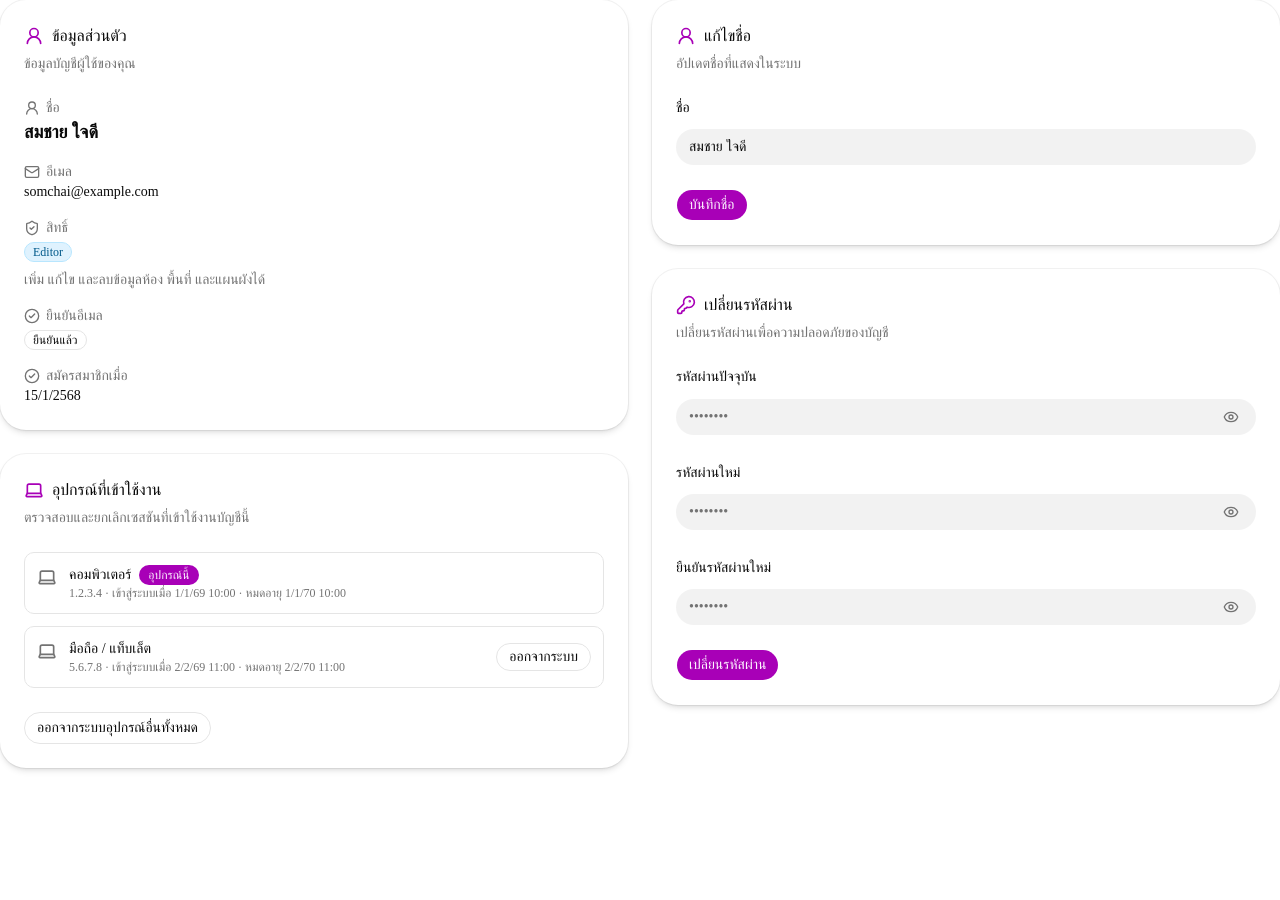
Test: ProfileClient - change password › validates matching confirm password
Type "OldPass12345!" into the password field labelled "รหัสผ่านปัจจุบัน". click: (966, 416)
box: left=676, top=398, right=1256, bottom=434
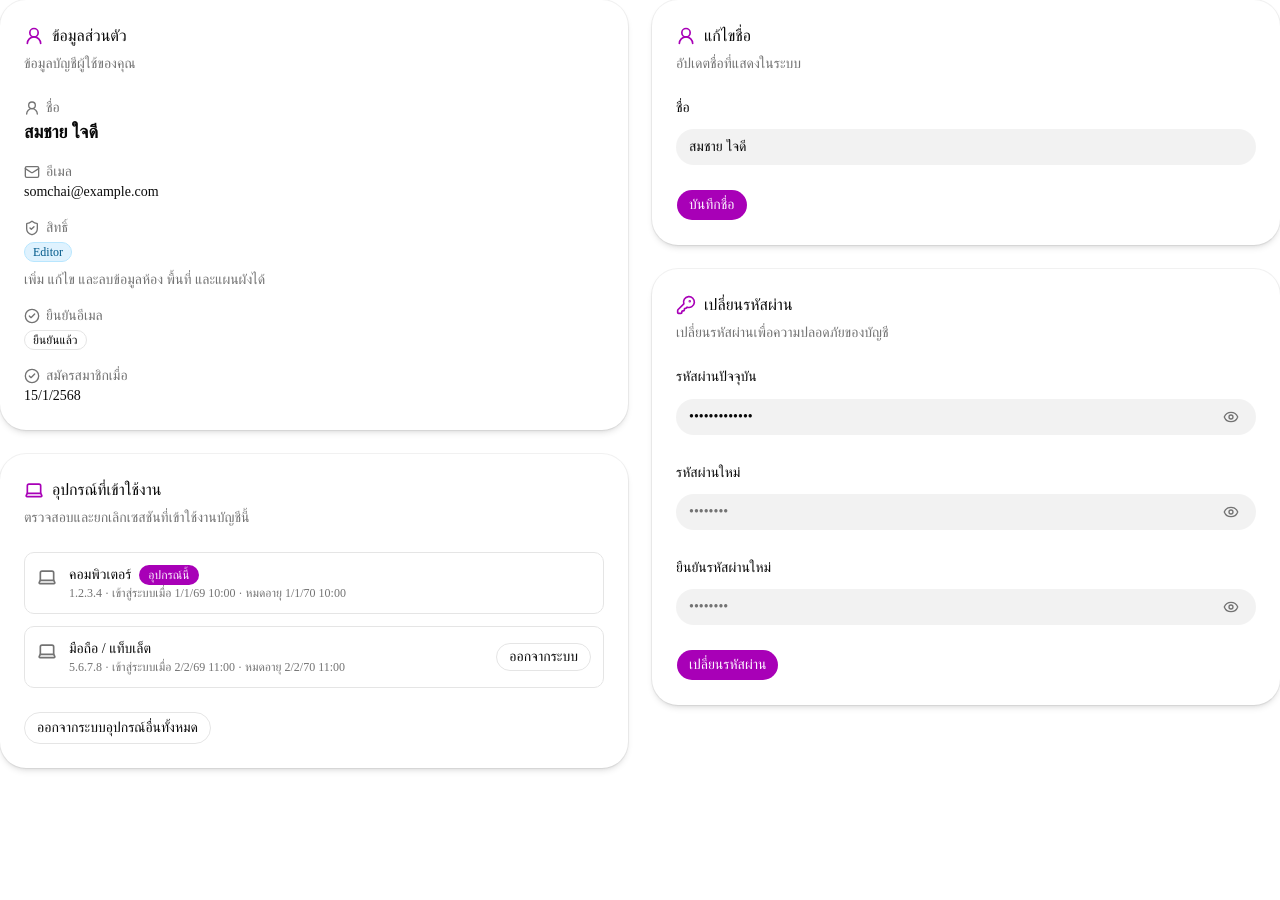
Type "NewPass12345!" into the password field labelled "รหัสผ่านใหม่". click: (966, 512)
box: left=676, top=494, right=1256, bottom=530
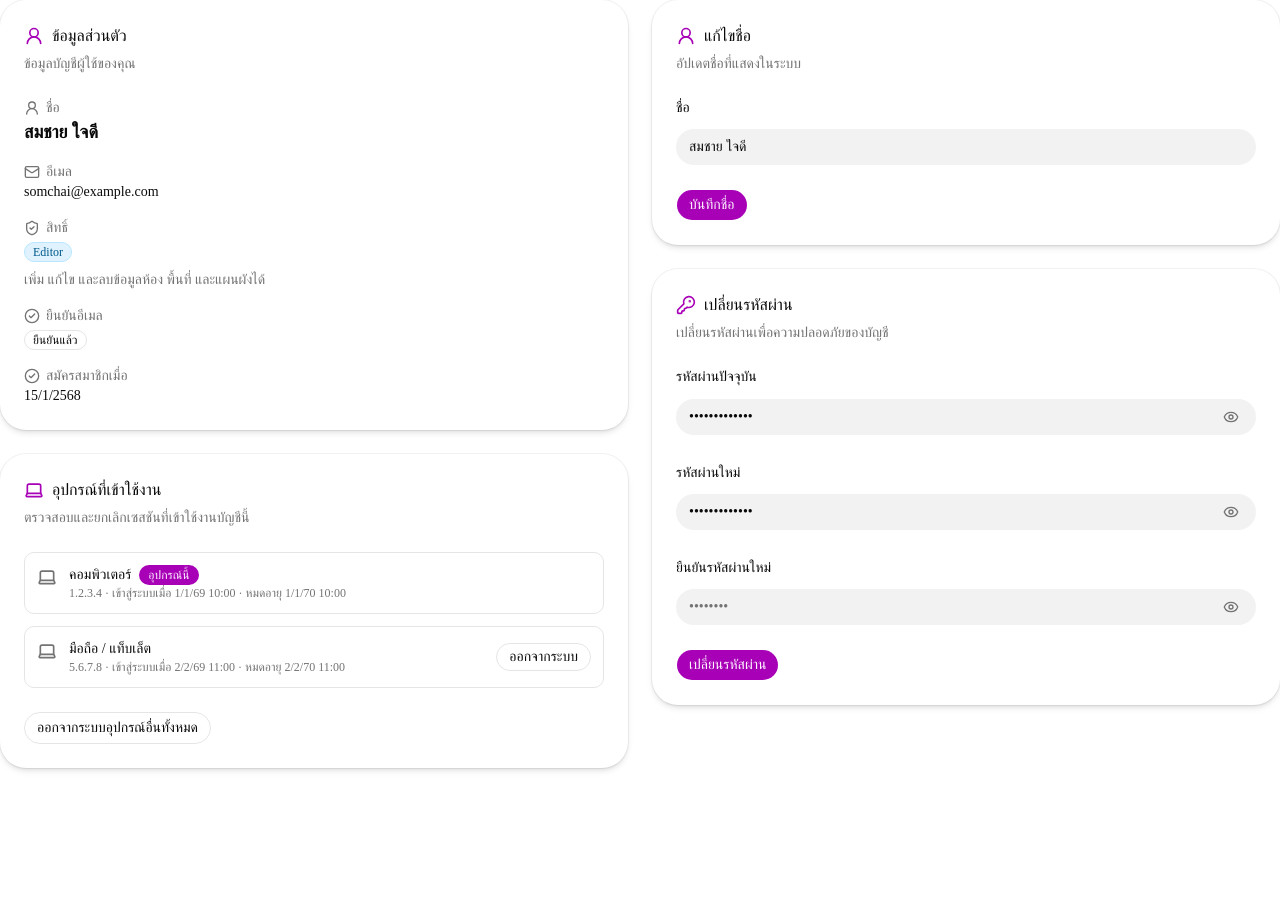
Type "DifferentPass!" into the password field labelled "ยืนยันรหัสผ่านใหม่". click: (966, 607)
box: left=676, top=589, right=1256, bottom=625
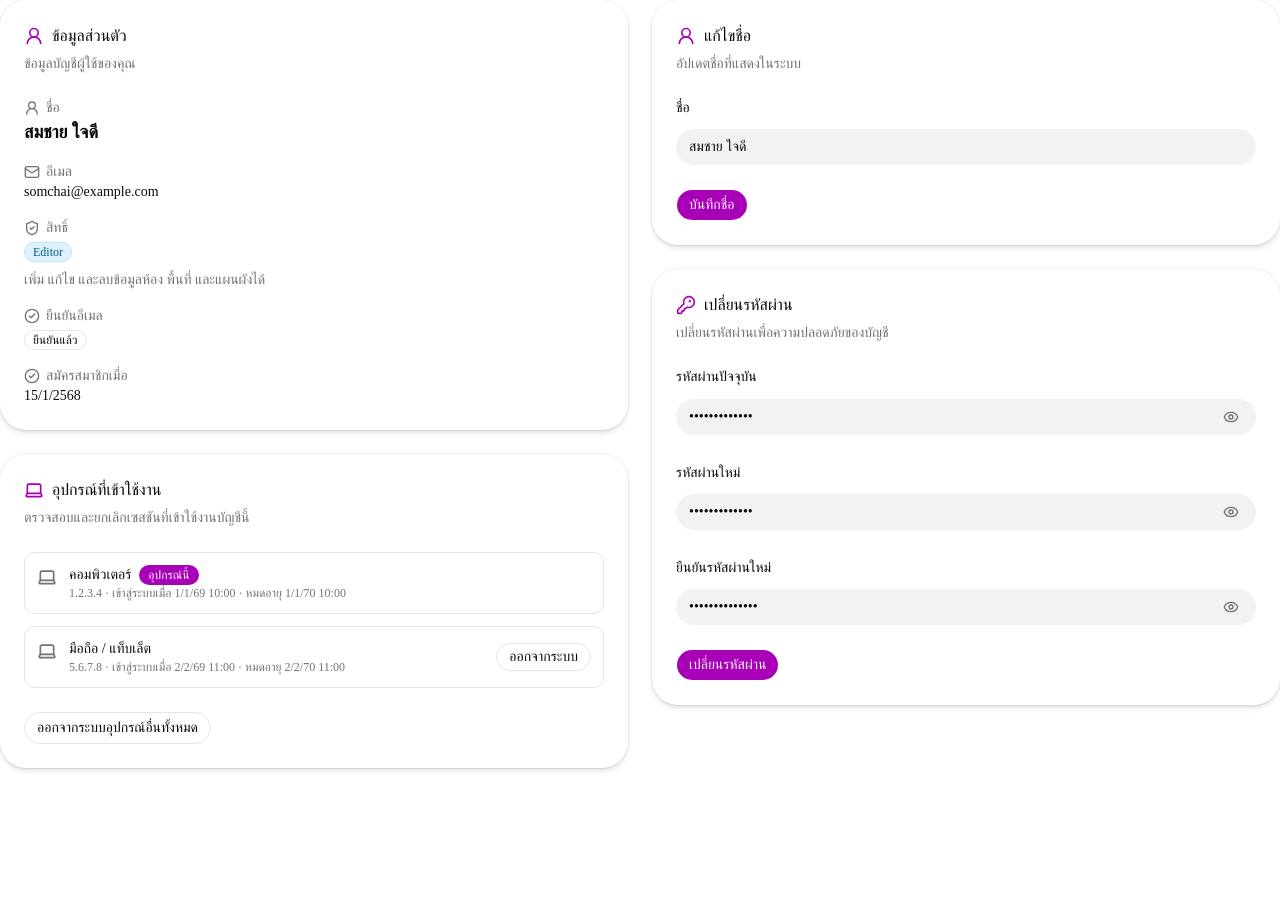
Submit the form "รหัสผ่านปัจจุบัน รหัสผ่านใหม่ ยืนยันรหัสผ่านใหม่", box left=676, top=367, right=1256, bottom=625
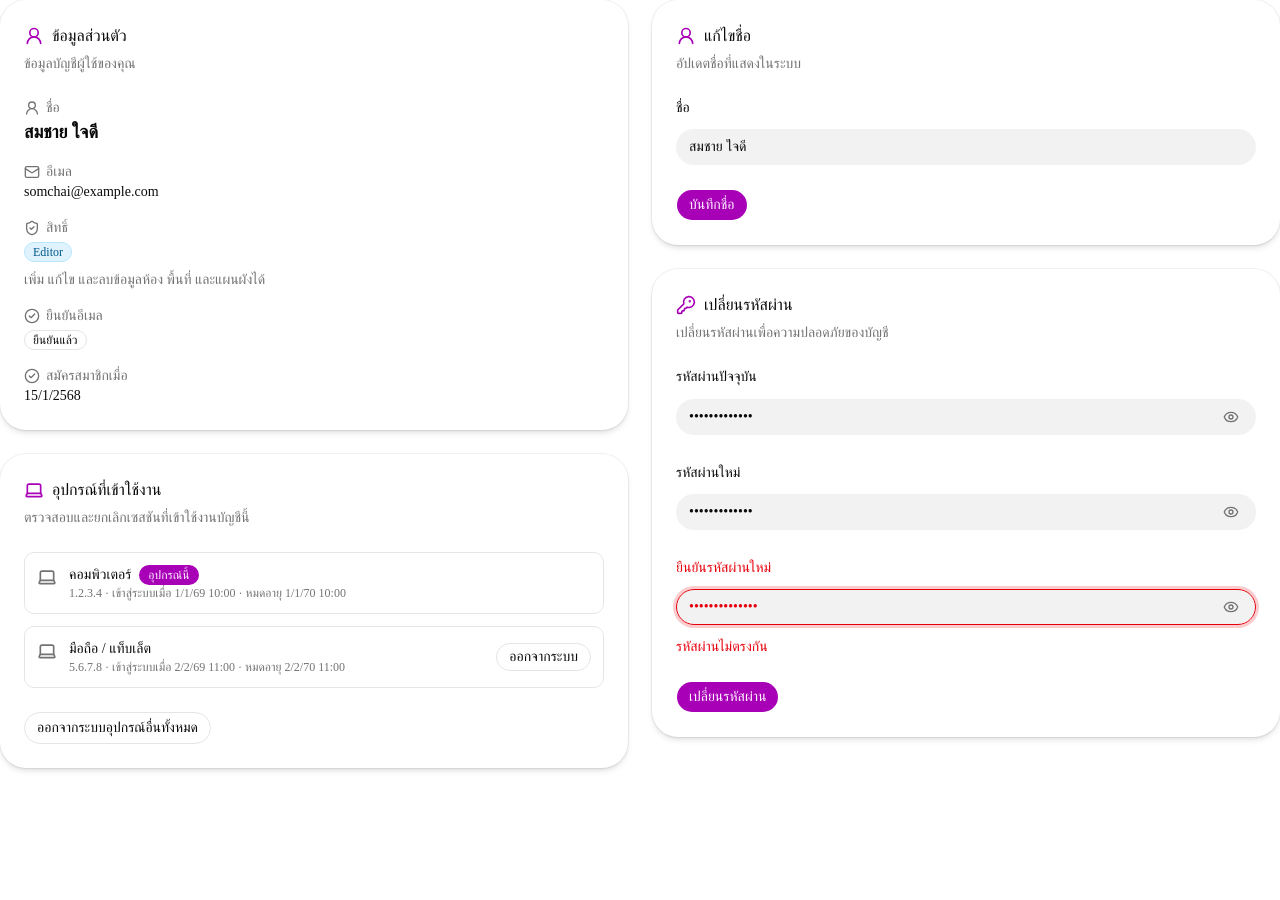
Expected: the text "รหัสผ่านไม่ตรงกัน" is shown, left=676, top=639, right=768, bottom=654
